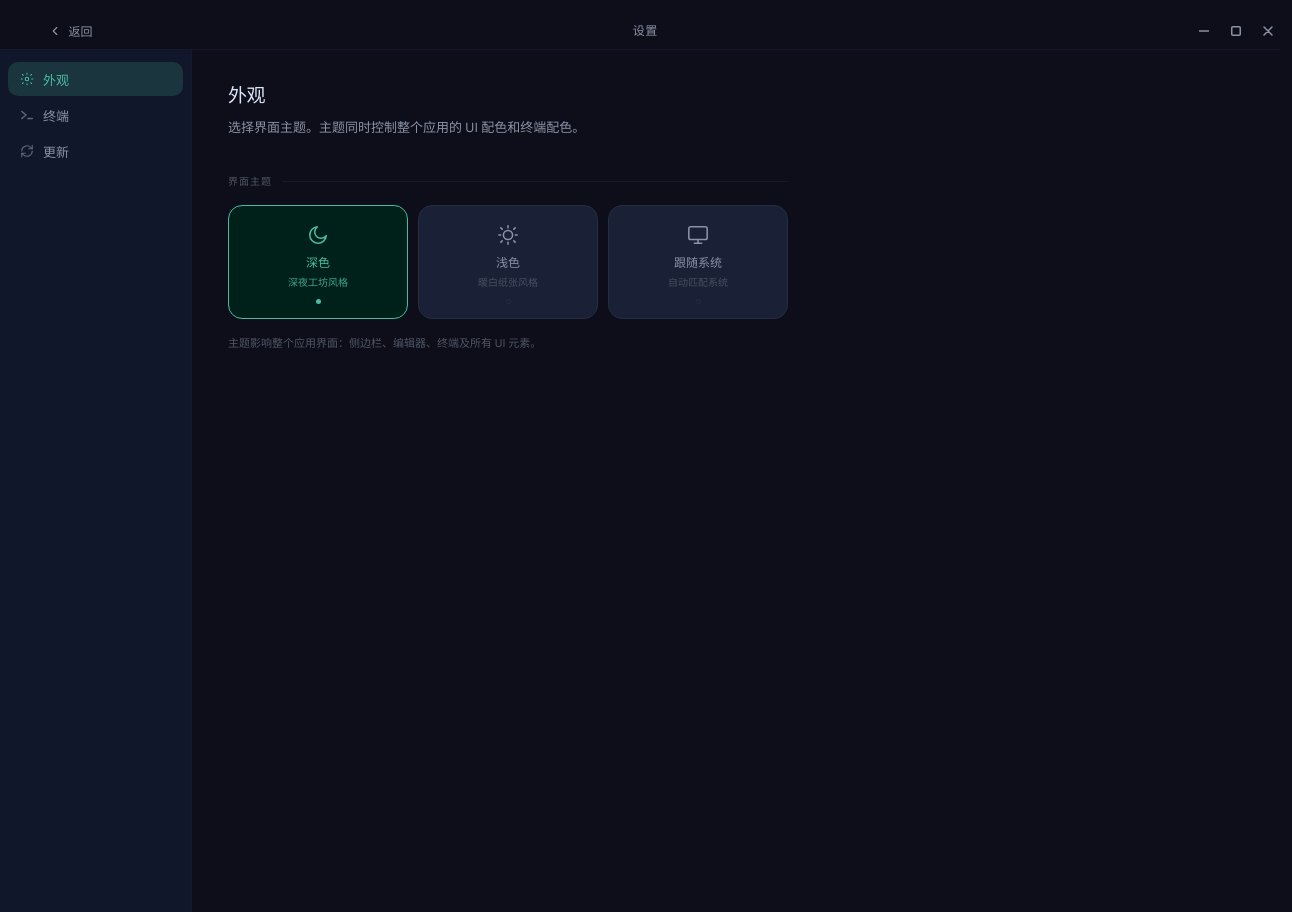
Test: SettingsPage › 点击终端导航后应渲染终端表单
The image size is (1292, 912).
#  导航到终端分区
Step 1. Click the button with test id "settings-nav-terminal" → (96, 115), box [8,98,183,132]
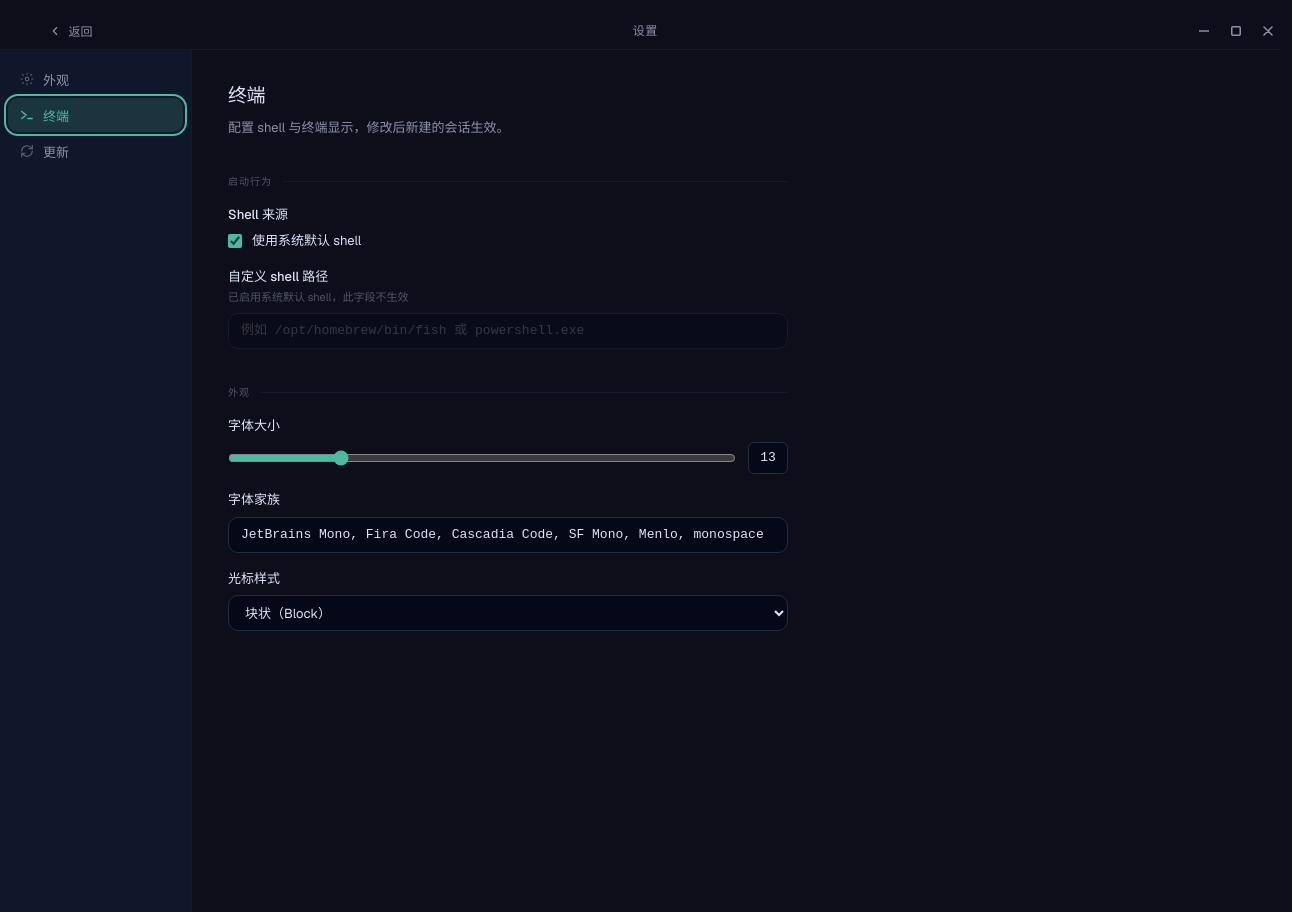
Check: the checkbox with test id "terminal-use-system-shell" is shown, box [228,234,242,248]
Check: the field with test id "terminal-custom-shell" is shown, box [228,312,788,348]
Check: the slider with test id "terminal-font-size" is shown, box [228,450,736,466]
